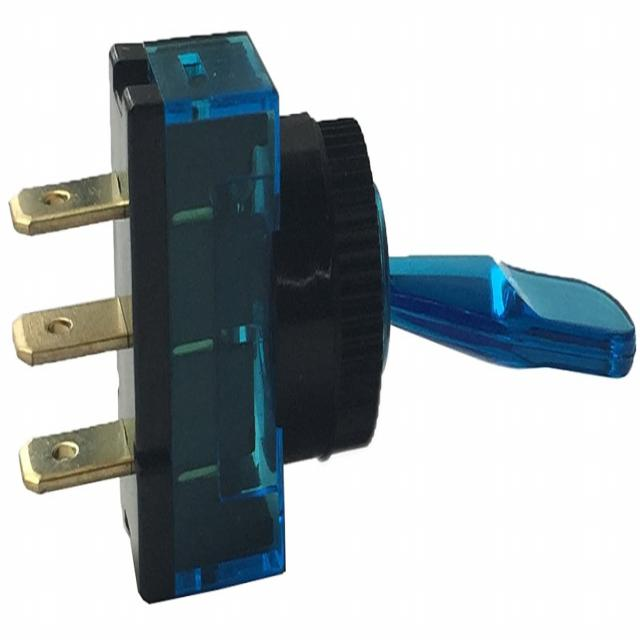toggle switch: (281, 110, 638, 467)
